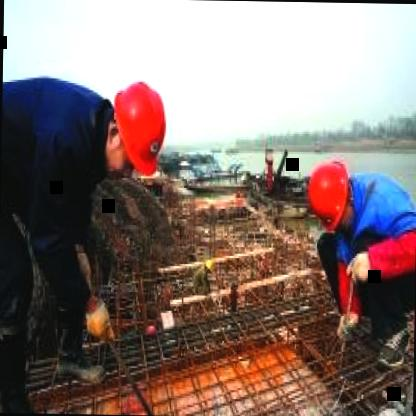helmet: (102, 76, 169, 180), (302, 152, 353, 233)
